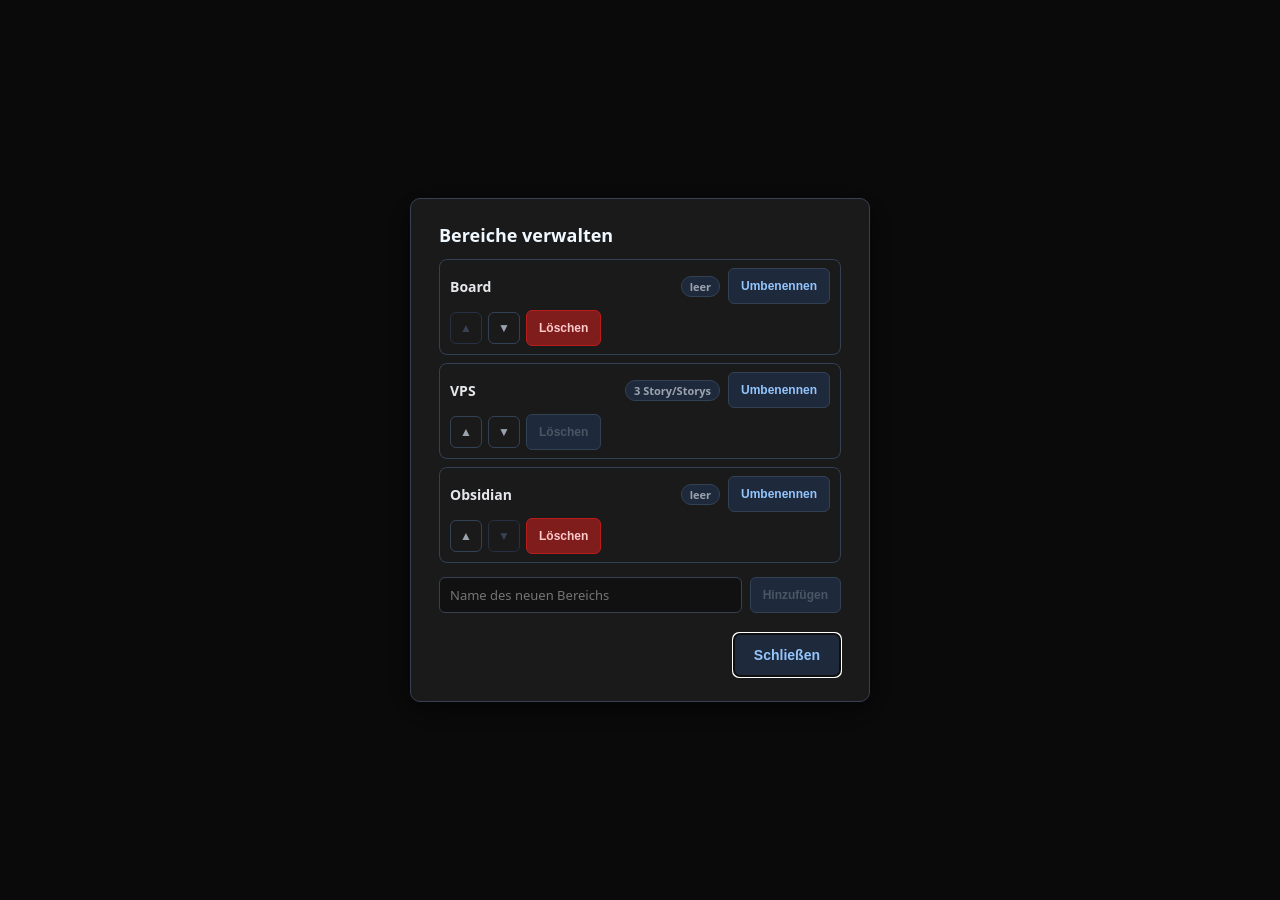
bereichs-modell AC8 — Bereichsliste + Mutationen › Anlegen: POST mit getrimmtem Namen, danach Reload (zweiter GET)
The image size is (1280, 900).
Expected: the dialog with test id "areas-manage-dialog" is shown, [410,198,870,702]
Expected: the number of list items with test id "areas-manage-row" is 3, [439,259,841,355]; [439,363,841,459]; [439,467,841,563]
In the field with test id "areas-manage-new-name-input": (590, 595) [439,577,742,613], type "  Neu  "
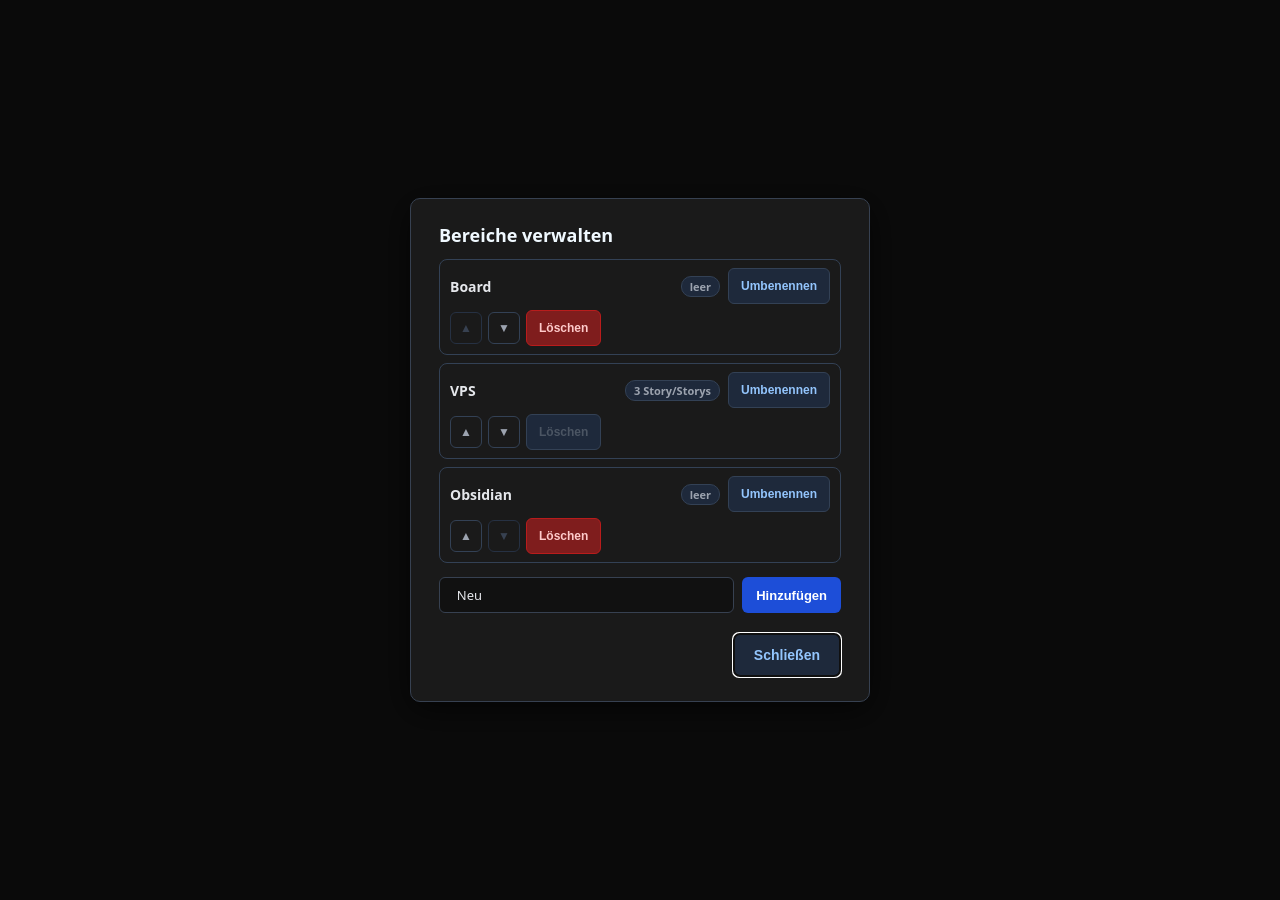
Click the button with test id "areas-manage-add-btn": (792, 595) [742,577,841,613]
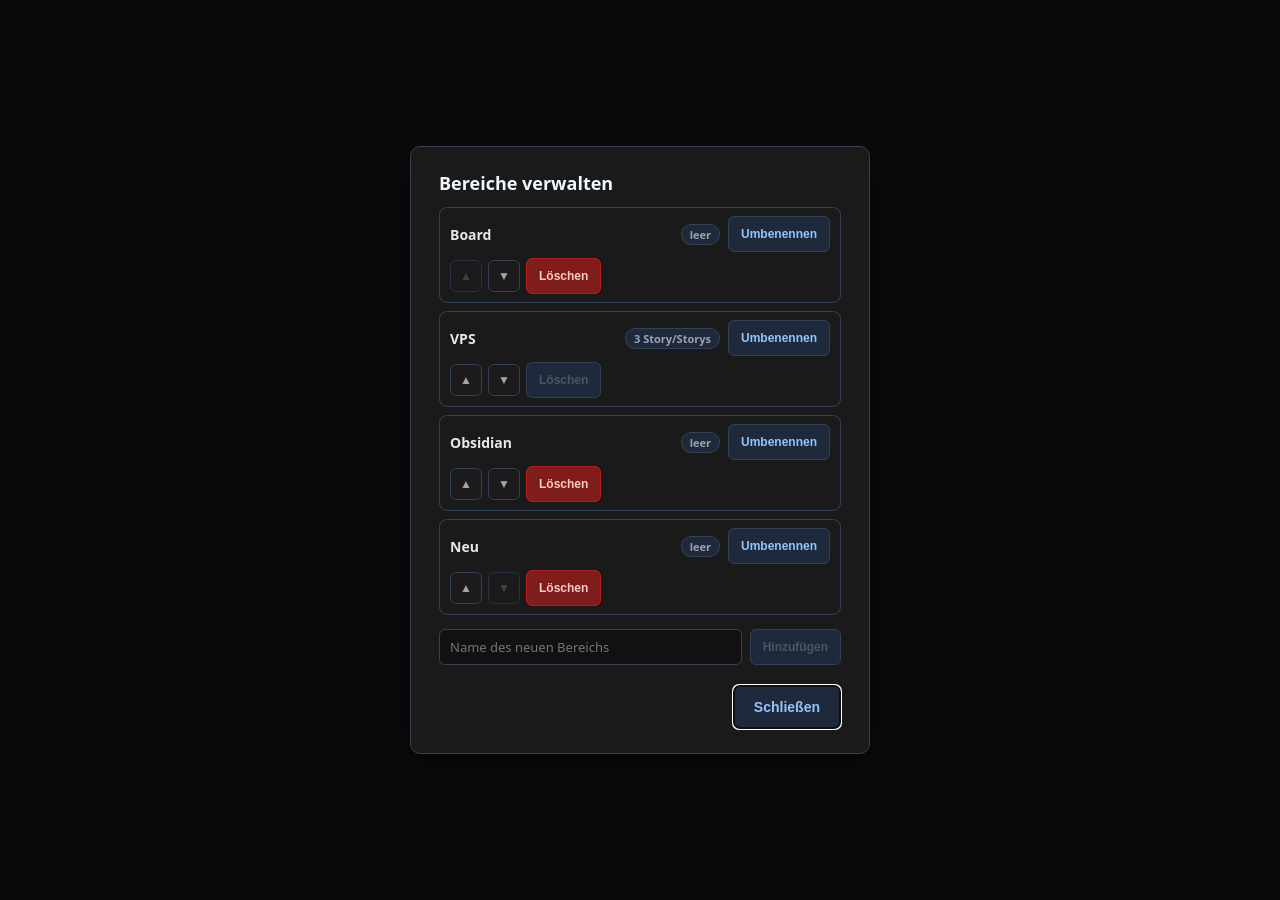
Now the number of list items with test id "areas-manage-row" is 4, box [439,207,841,303]; [439,311,841,407]; [439,415,841,511]; [439,519,841,615]
Now the field with test id "areas-manage-new-name-input" is empty, box [439,629,742,665]
